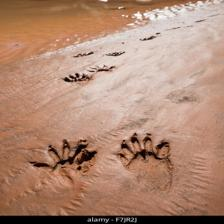raccoon: (113, 132, 181, 194), (28, 141, 98, 186)
